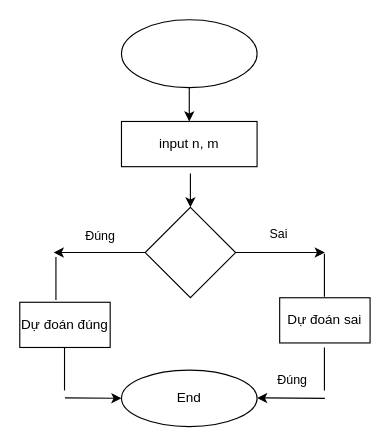
Some shapes in this 390 by 446 pixel diagram are drawn without their labels. Each missing label, with the box of its shape:
n=m: (144, 206, 236, 298)
Start: (120, 19, 257, 88)
